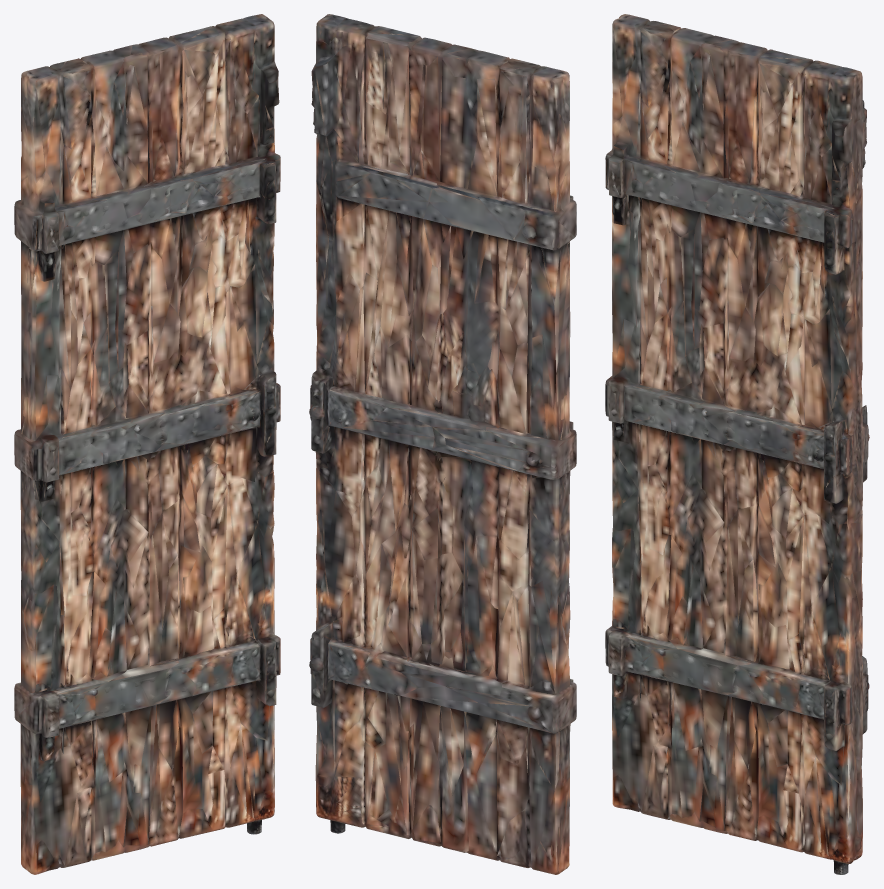
The model's file is bb_gate_steel.d6e113b33d.glb.
3 renders of one model, left to right at view 1: azimuth 30°, elevation 25°; view 2: azimuth 150°, elevation 25°; view 3: azimuth 330°, elevation 25°, orthographic.
Parts seen in each view (by area): view 1: bb_gate_steel; view 2: bb_gate_steel; view 3: bb_gate_steel.
Part boxes in pixels (x1,y1,x2,y2): bb_gate_steel: (14,14,280,874); bb_gate_steel: (309,14,576,874); bb_gate_steel: (605,14,869,874).
Bounding box in the file's own units: 0.6092 × 1.9 × 0.1512.
Materials: 1 (1 with a texture image).
